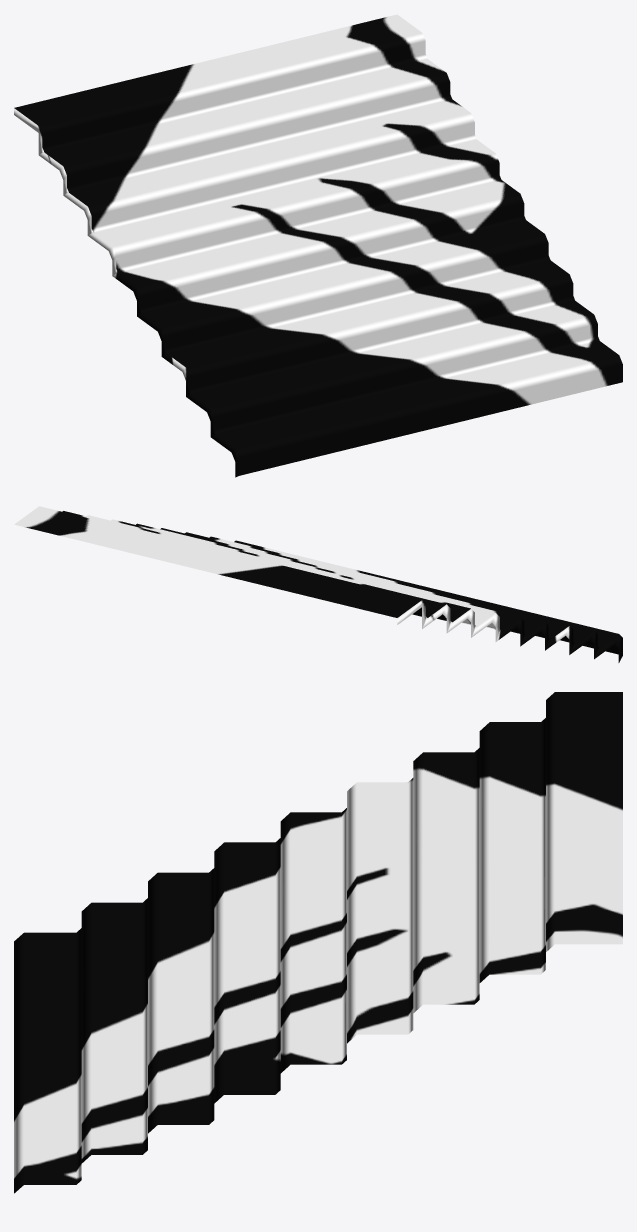
Rendered from SM_Carpet_2mStair.fbx.
3 views of the same model, one above another, from view 1: azimuth 30°, elevation 25°; view 2: azimuth 150°, elevation 25°; view 3: azimuth 270°, elevation 25° (orthographic). The views are drawn at different scales.
Visible parts, largest first — view 1: SM_Carpet_2mStair; view 2: SM_Carpet_2mStair; view 3: SM_Carpet_2mStair.
Part boxes in pixels (<box>): SM_Carpet_2mStair: <box>14,14,622,477</box>; SM_Carpet_2mStair: <box>14,506,622,662</box>; SM_Carpet_2mStair: <box>14,692,622,1193</box>.
Size of the model in its own units: 2 by 1.04 by 2.04.
